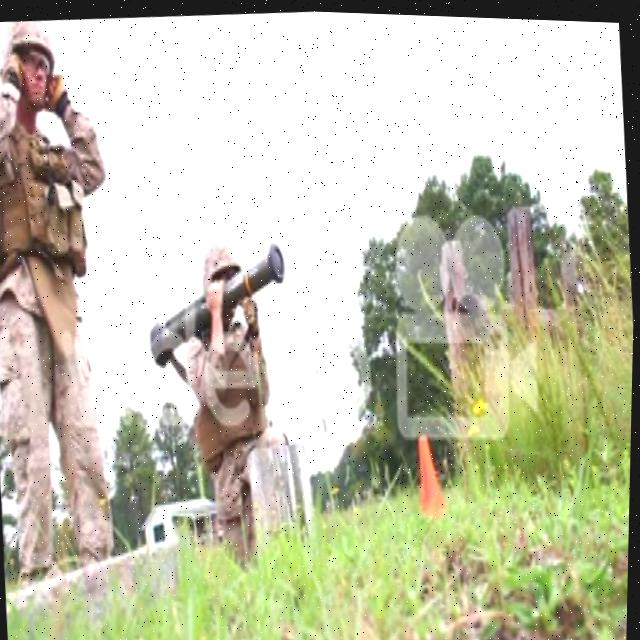rocket: (140, 229, 296, 391)
